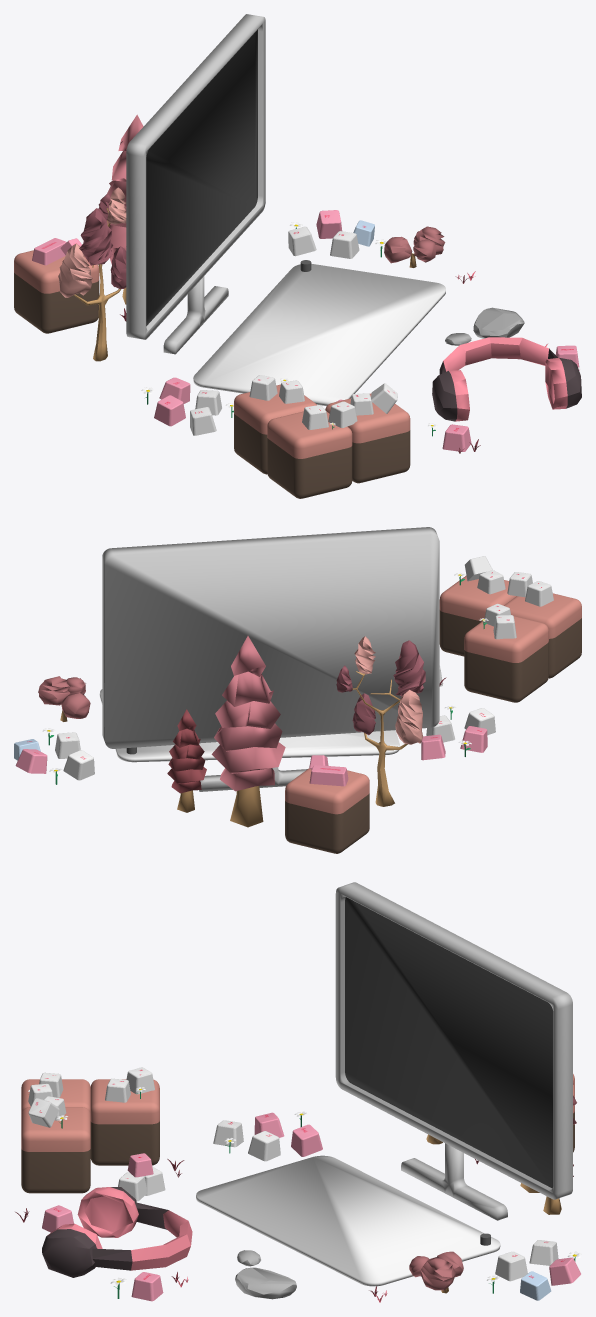
File: New_PopUp_03_Left.fbx
3 views of the same model, one above another, from view 1: azimuth 30°, elevation 25°; view 2: azimuth 150°, elevation 25°; view 3: azimuth 270°, elevation 25° (orthographic). The views are drawn at different scales.
Visible parts, largest first — view 1: Ch01_Left.030; view 2: Ch01_Left.030; view 3: Ch01_Left.030.
Boxes of the visible parts, x1=… form: Ch01_Left.030: x1=14, y1=14, x2=581, y2=498; Ch01_Left.030: x1=14, y1=527, x2=581, y2=853; Ch01_Left.030: x1=15, y1=882, x2=581, y2=1302.
Size of the model in its own units: 143 by 87.03 by 174.
